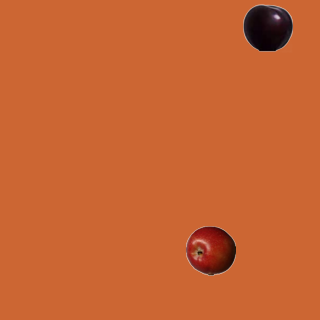Apple Braeburn: (185, 225, 235, 275)
Cherry Wax Black: (242, 2, 292, 52)
